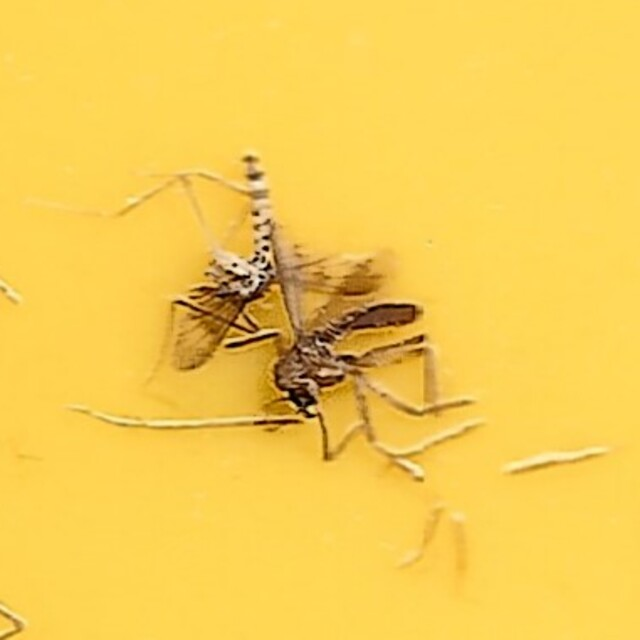Nematocera: (252, 218, 472, 484), (168, 156, 407, 388)
